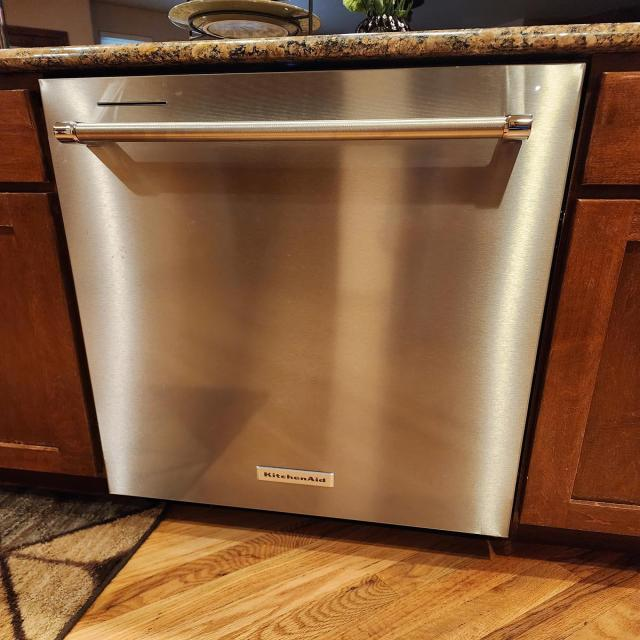dishwasher: (44, 43, 610, 550)
